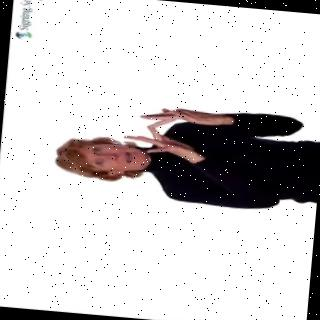Internet: (52, 93, 320, 216)
